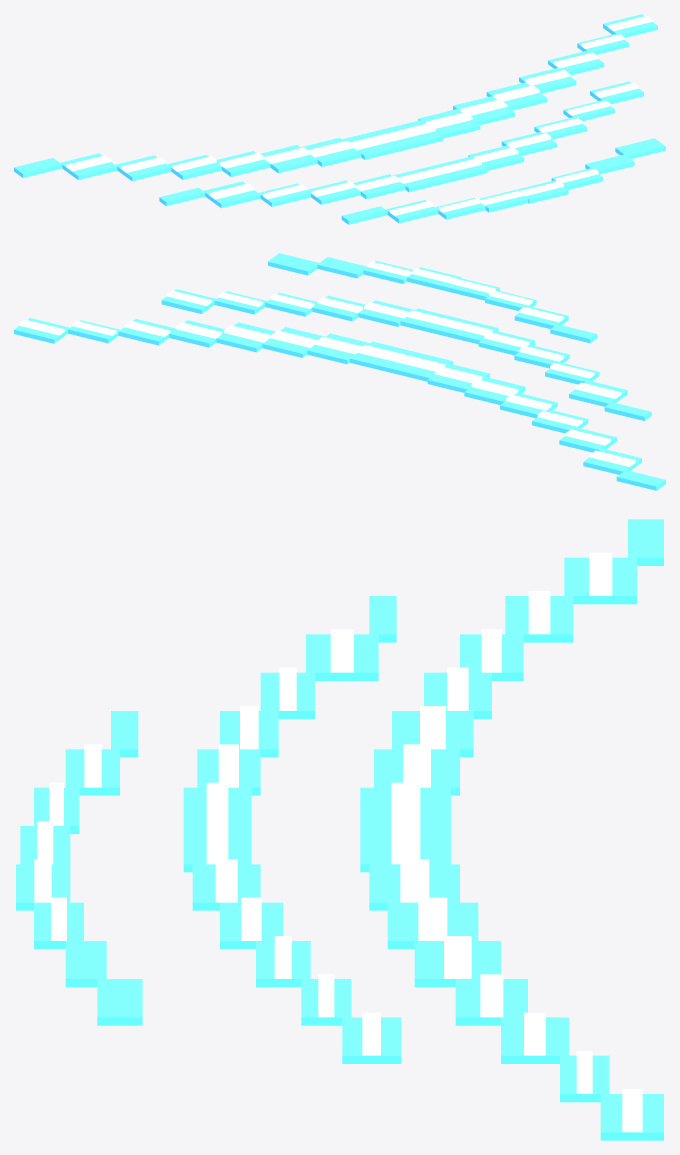
File: Windswept_WindStreak.glb
The picture shows the model from 3 angles, top to bottom: view 1: azimuth 30°, elevation 25°; view 2: azimuth 150°, elevation 25°; view 3: azimuth 270°, elevation 25°; orthographic projection. The views are drawn at different scales.
Parts seen in each view (by area): view 1: Streak_A_8, Streak_A_9, Streak_A_10, Streak_A_11, Streak_A_7, Streak_A_12, Streak_A_6, Streak_A_2, Streak_B_2, Streak_C_8, Streak_A_3, Streak_A_5 (+44 smaller); view 2: Streak_A_11, Streak_A_10, Streak_A_9, Streak_A_8, Streak_A_12, Streak_A_7, Streak_C_8, Streak_A_6, Streak_A_2, Streak_B_2, Streak_A_13, Streak_A_14 (+37 smaller); view 3: Streak_A_11, Streak_A_12, Streak_A_2, Streak_A_10, Streak_A_9, Streak_B_2, Streak_A_8, Streak_A_13, Streak_A_14, Streak_A_7, Streak_A_3, Streak_A_16 (+43 smaller).
Part boxes in pixels (box(x1,y1,x2,y2)): Streak_A_8: box(342, 130, 403, 159); Streak_A_9: box(381, 120, 443, 150); Streak_A_10: box(418, 109, 480, 138); Streak_A_11: box(453, 96, 514, 125); Streak_A_7: box(301, 137, 361, 166); Streak_A_12: box(486, 82, 547, 110); Streak_A_6: box(261, 145, 317, 173); Streak_A_2: box(60, 153, 117, 179); Streak_B_2: box(203, 181, 260, 208); Streak_C_8: box(615, 138, 665, 158); Streak_A_3: box(115, 155, 171, 181); Streak_A_5: box(216, 151, 270, 176); Streak_A_11: box(262, 327, 325, 357); Streak_A_10: box(307, 333, 369, 364); Streak_A_9: box(349, 341, 412, 372); Streak_A_8: box(390, 351, 453, 381); Streak_A_12: box(216, 322, 275, 352); Streak_A_7: box(427, 364, 489, 392); Streak_C_8: box(268, 253, 318, 275); Streak_A_6: box(464, 377, 525, 404); Streak_A_2: box(583, 448, 641, 474); Streak_B_2: box(569, 380, 627, 406); Streak_A_13: box(169, 320, 224, 347); Streak_A_14: box(118, 319, 175, 345); Streak_A_11: box(387, 902, 478, 948); Streak_A_12: box(414, 941, 500, 987); Streak_A_2: box(564, 557, 636, 604); Streak_A_10: box(369, 864, 459, 910); Streak_A_9: box(360, 826, 450, 872); Streak_B_2: box(306, 634, 378, 680); Streak_A_8: box(360, 787, 450, 825); Streak_A_13: box(455, 979, 527, 1025); Streak_A_14: box(501, 1017, 568, 1063); Streak_A_7: box(374, 749, 459, 795); Streak_A_3: box(505, 596, 573, 642); Streak_A_16: box(600, 1094, 663, 1140).
Size of the model in its own units: 1.6 by 0.016 by 0.715.
